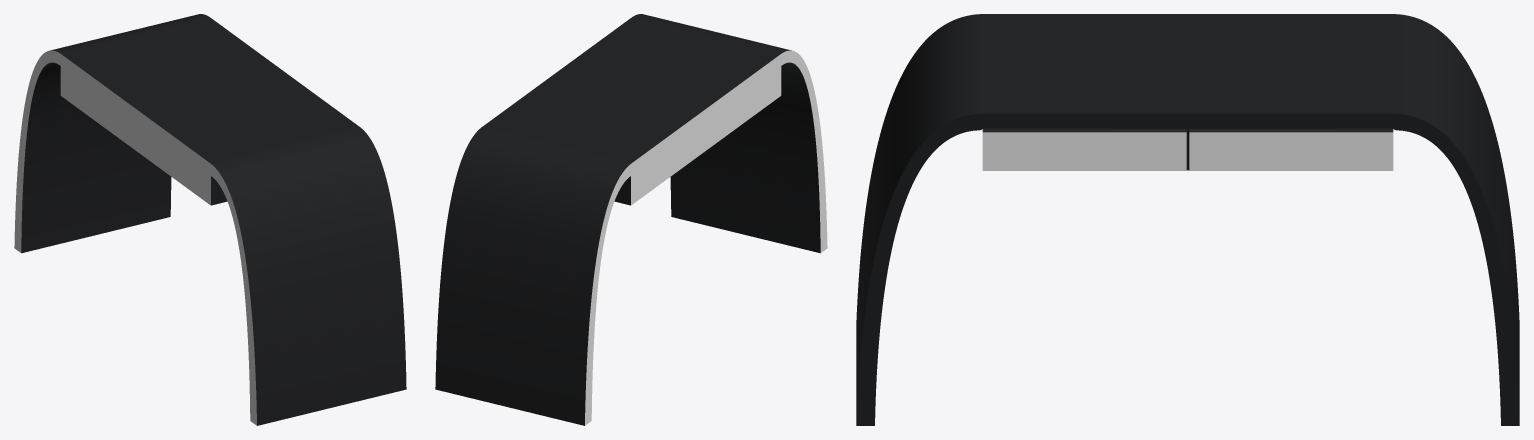
File: Interior_Table.FBX
3 renders of one model, left to right at view 1: azimuth 30°, elevation 25°; view 2: azimuth 150°, elevation 25°; view 3: azimuth 270°, elevation 25°, orthographic. The views are drawn at different scales.
Parts seen in each view (by area): view 1: Box001; view 2: Box001; view 3: Box001.
Boxes of the visible parts, left/top/right/bottom form: Box001: left=14, top=14, right=406, bottom=425; Box001: left=435, top=14, right=827, bottom=425; Box001: left=856, top=14, right=1519, bottom=425.
Size of the model in its own units: 48.25 by 70.47 by 136.
1 material, 1 textured.
